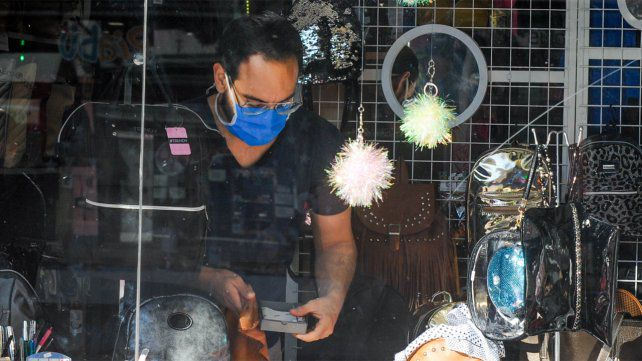barbijo: (211, 78, 290, 146)
